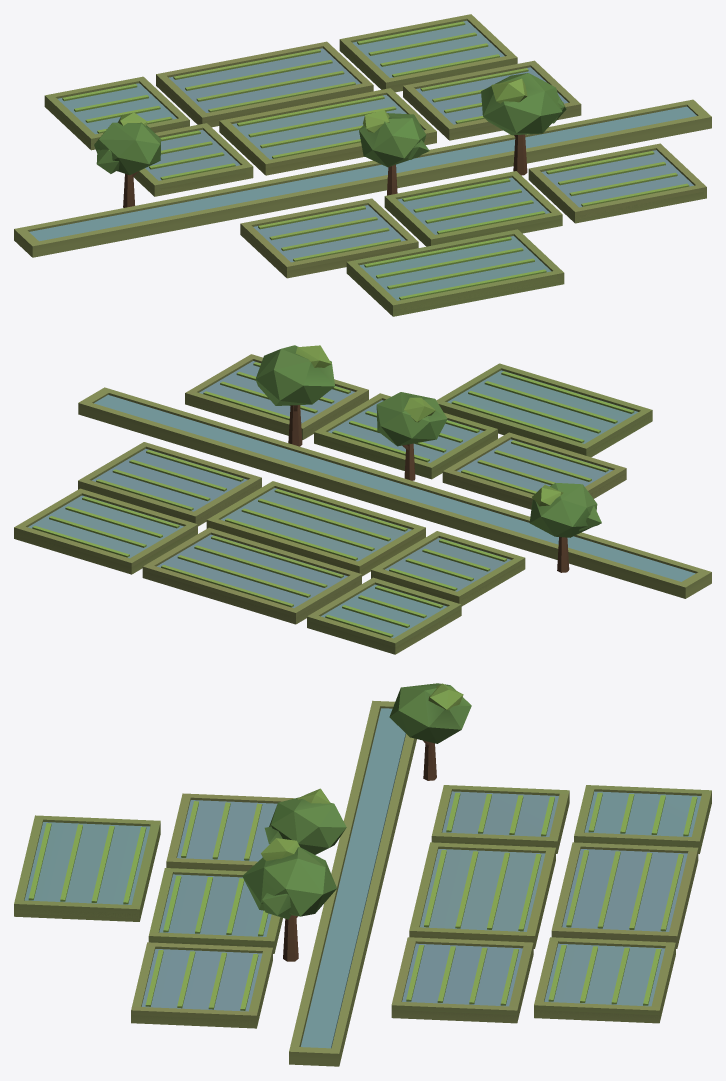
The model's file is rice_paddies.glb.
3 renders of one model, top to bottom at view 1: azimuth 30°, elevation 25°; view 2: azimuth 150°, elevation 25°; view 3: azimuth 270°, elevation 25°, orthographic. The views are drawn at different scales.
Visible parts, largest first — view 1: rice_paddies; view 2: rice_paddies; view 3: rice_paddies.
Boxes of the visible parts, <box> form: rice_paddies: <box>14,14,711,316</box>; rice_paddies: <box>14,345,711,654</box>; rice_paddies: <box>14,683,711,1066</box>.
Size of the model in its own units: 16.52 by 2.45 by 13.8.
